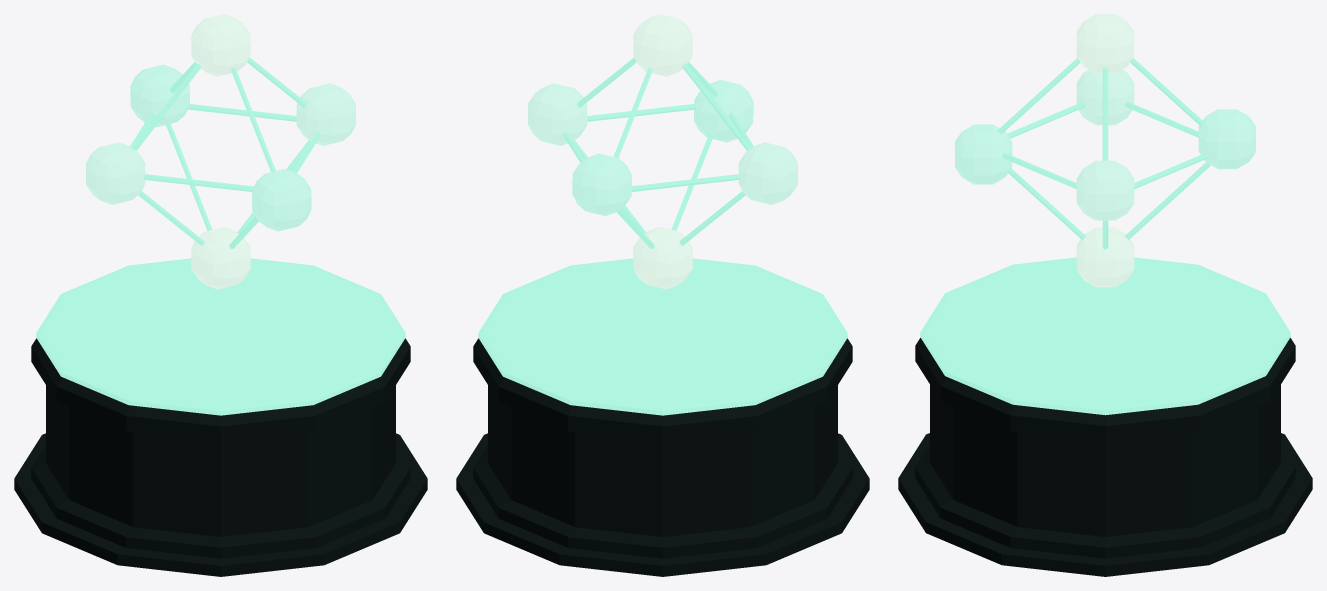
The model's file is bead_statue.gltf.
3 renders of one model, left to right at view 1: azimuth 30°, elevation 25°; view 2: azimuth 150°, elevation 25°; view 3: azimuth 270°, elevation 25°, orthographic.
Parts seen in each view (by area): view 1: Pedestal, PedestalRimGlow, Bead_E3, Bead_E2, Bead_Top, Bead_E0, Bead_Bot, Bead_E1, Beam_E2_E3, Beam_E0_E1, Beam_Top_E3, Beam_Top_E2 (+1 smaller); view 2: Pedestal, PedestalRimGlow, Bead_E1, Bead_E2, Bead_Top, Bead_E0, Bead_Bot, Bead_E3, Beam_E1_E2, Beam_Top_E2, Beam_E3_E0, Beam_Bot_E3 (+1 smaller); view 3: Pedestal, PedestalRimGlow, Bead_E0, Bead_Top, Bead_E1, Bead_E3, Bead_Bot, Bead_E2, Beam_Bot_E1, Beam_Top_E3, Beam_Top_E0, Beam_Bot_E3 (+2 smaller).
Part boxes in pixels (left/top/right/bottom): Pedestal: left=14, top=338, right=427, bottom=576; PedestalRimGlow: left=36, top=258, right=405, bottom=415; Bead_E3: left=252, top=168, right=311, bottom=231; Bead_E2: left=86, top=142, right=145, bottom=204; Bead_Top: left=191, top=14, right=250, bottom=76; Bead_E0: left=296, top=83, right=355, bottom=145; Bead_Bot: left=191, top=227, right=250, bottom=289; Bead_E1: left=130, top=64, right=189, bottom=127; Beam_E2_E3: left=144, top=174, right=253, bottom=191; Beam_E0_E1: left=187, top=104, right=296, bottom=121; Beam_Top_E3: left=231, top=67, right=275, bottom=171; Beam_Top_E2: left=132, top=63, right=201, bottom=150; Pedestal: left=456, top=338, right=869, bottom=576; PedestalRimGlow: left=478, top=258, right=847, bottom=415; Bead_E1: left=572, top=153, right=631, bottom=216; Bead_E2: left=738, top=142, right=797, bottom=204; Bead_Top: left=633, top=14, right=692, bottom=76; Bead_E0: left=528, top=83, right=587, bottom=145; Bead_Bot: left=633, top=227, right=692, bottom=289; Bead_E3: left=694, top=79, right=753, bottom=142; Beam_E1_E2: left=632, top=174, right=739, bottom=191; Beam_Top_E2: left=682, top=63, right=751, bottom=150; Beam_E3_E0: left=587, top=103, right=696, bottom=121; Beam_Bot_E3: left=671, top=133, right=713, bottom=230; Pedestal: left=898, top=338, right=1312, bottom=576; PedestalRimGlow: left=920, top=257, right=1290, bottom=415; Bead_E0: left=1076, top=160, right=1134, bottom=220; Bead_Top: left=1076, top=14, right=1134, bottom=73; Bead_E1: left=1198, top=109, right=1255, bottom=169; Bead_E3: left=955, top=124, right=1012, bottom=184; Bead_Bot: left=1076, top=227, right=1134, bottom=287; Bead_E2: left=1076, top=70, right=1134, bottom=125; Beam_Bot_E1: left=1125, top=162, right=1210, bottom=239; Beam_Top_E3: left=997, top=58, right=1080, bottom=133; Beam_Top_E0: left=1102, top=67, right=1108, bottom=160; Beam_Bot_E3: left=1008, top=168, right=1085, bottom=239.
Size of the model in its own units: 1.7 by 2.13 by 1.7.
Materials: 6 (2 with a texture image).
